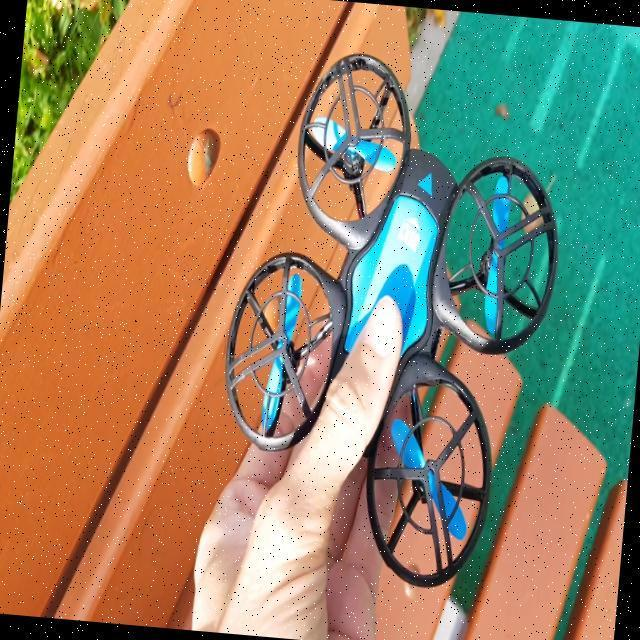Drons: (204, 41, 580, 599)
